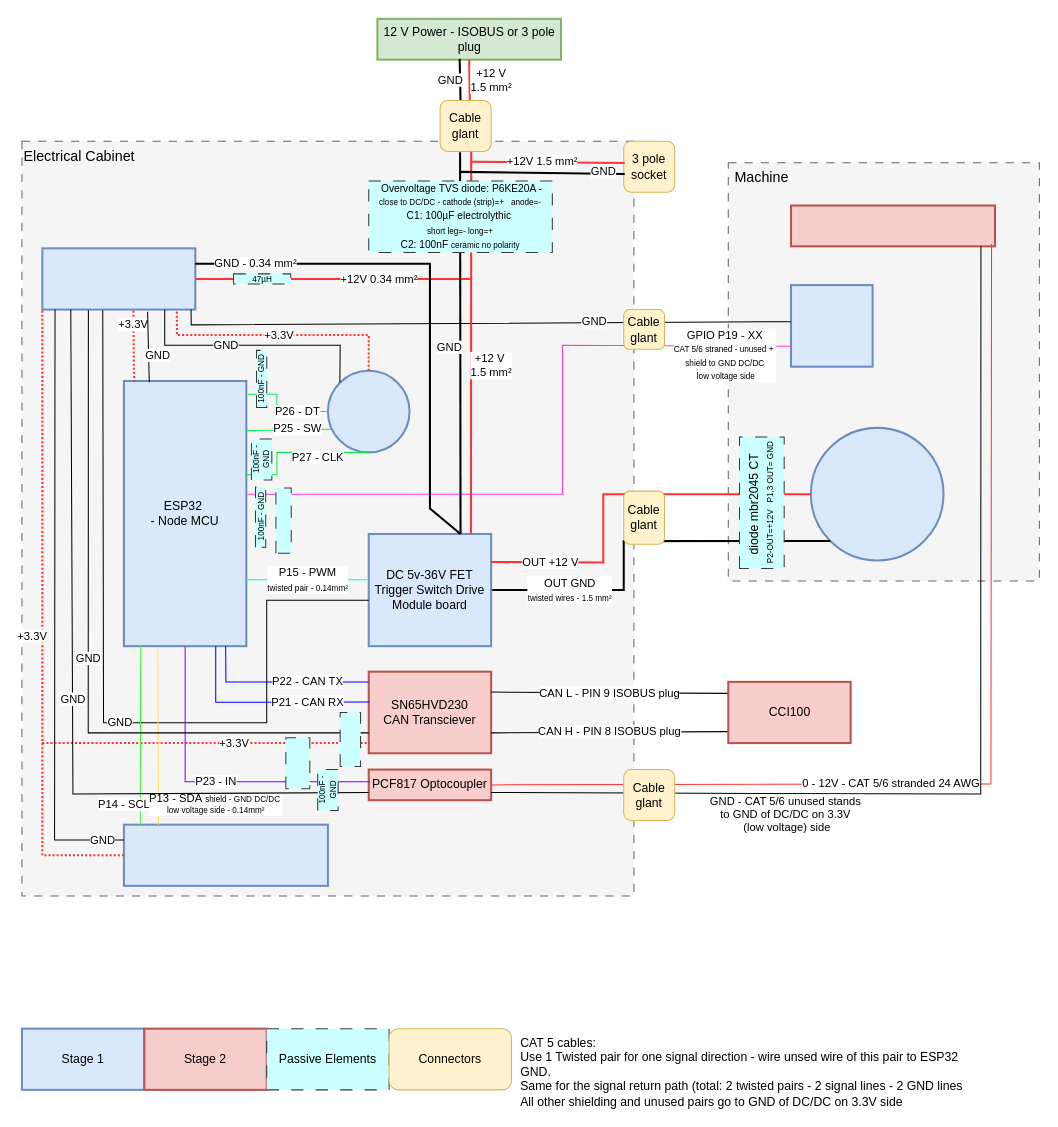
The diagram is 1058 pixels wide and 1127 high, and some of its shapes have lost their labels. Each missing label, with the box of its shape:
1 k Ohm - +3.3V: (275, 487, 291, 553)
100nF GND - +3.3V: (339, 711, 361, 767)
12 / 3.3 V DC/DC: (41, 247, 196, 310)
20x4 I2C Display: (122, 823, 328, 886)
4.7 k Ohm - + 3.3V: (285, 737, 310, 789)
Inductive Sensor: (789, 204, 996, 247)
KY-040 encoder: (326, 369, 410, 453)
Motor 12 V, 10 A: (809, 426, 944, 561)
Reed Sensor: (789, 284, 873, 367)
